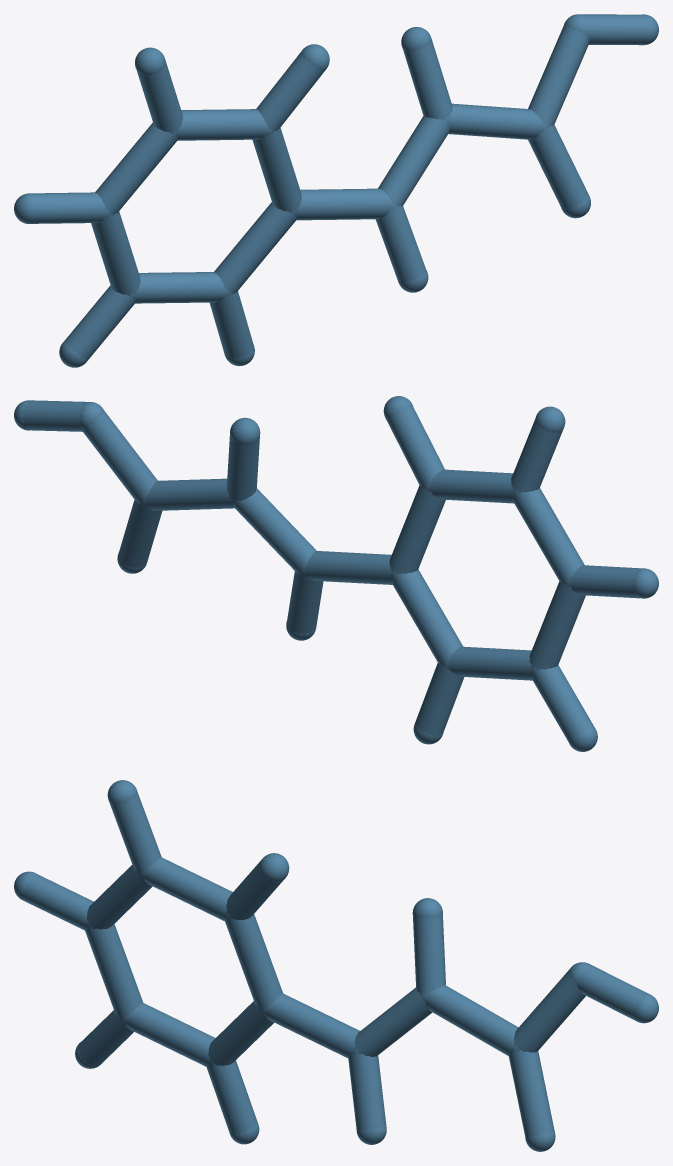
Rendered from 444539-sticks-vis_NIH3D.glb.
3 renders of one model, top to bottom at view 1: azimuth 30°, elevation 25°; view 2: azimuth 150°, elevation 25°; view 3: azimuth 330°, elevation 25°, orthographic.
Parts seen in each view (by area): view 1: bonds, atoms; view 2: bonds, atoms; view 3: bonds, atoms.
Part boxes in pixels (bbox=[...]): bonds: bbox=[31, 14, 650, 360]; atoms: bbox=[14, 14, 658, 367]; bonds: bbox=[21, 400, 641, 742]; atoms: bbox=[14, 396, 658, 751]; bonds: bbox=[21, 792, 648, 1139]; atoms: bbox=[14, 780, 658, 1151].
Bounding box in the file's own units: 9.7 × 5.08 × 1.1.
